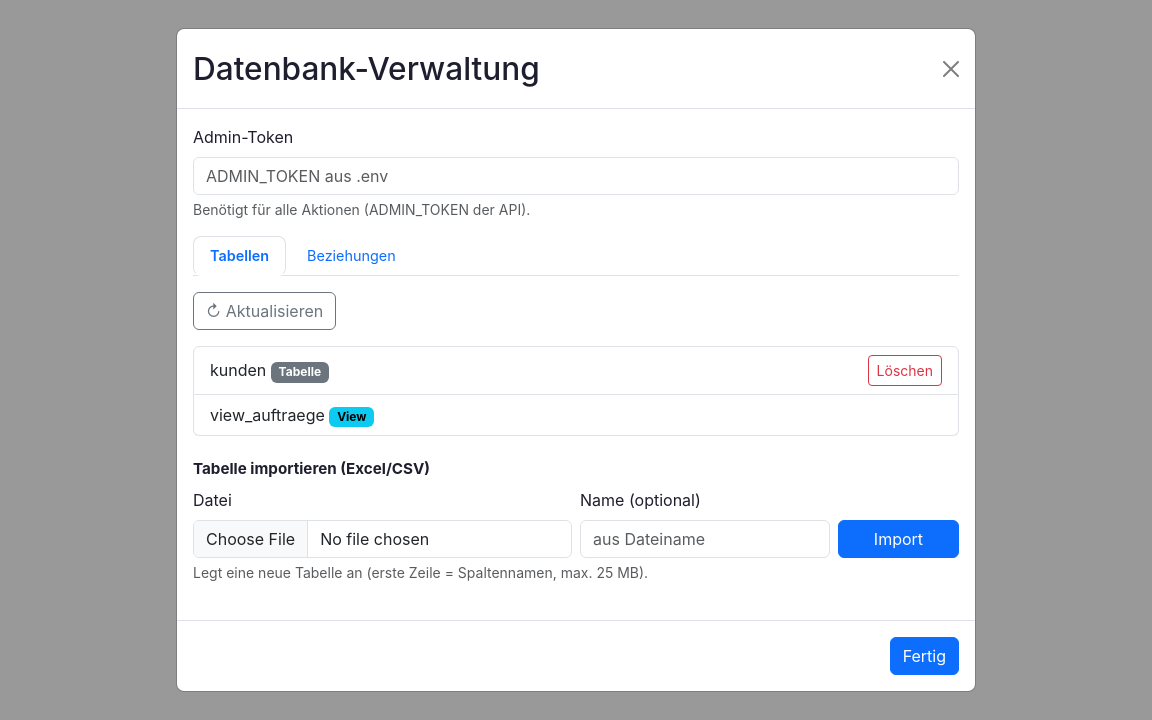
Scenario: AdminPanel – delete table › deletes when confirmed and reloads the list
Click the button with aria-label "Tabelle kunden löschen": x=905, y=370 [868,355,942,386]
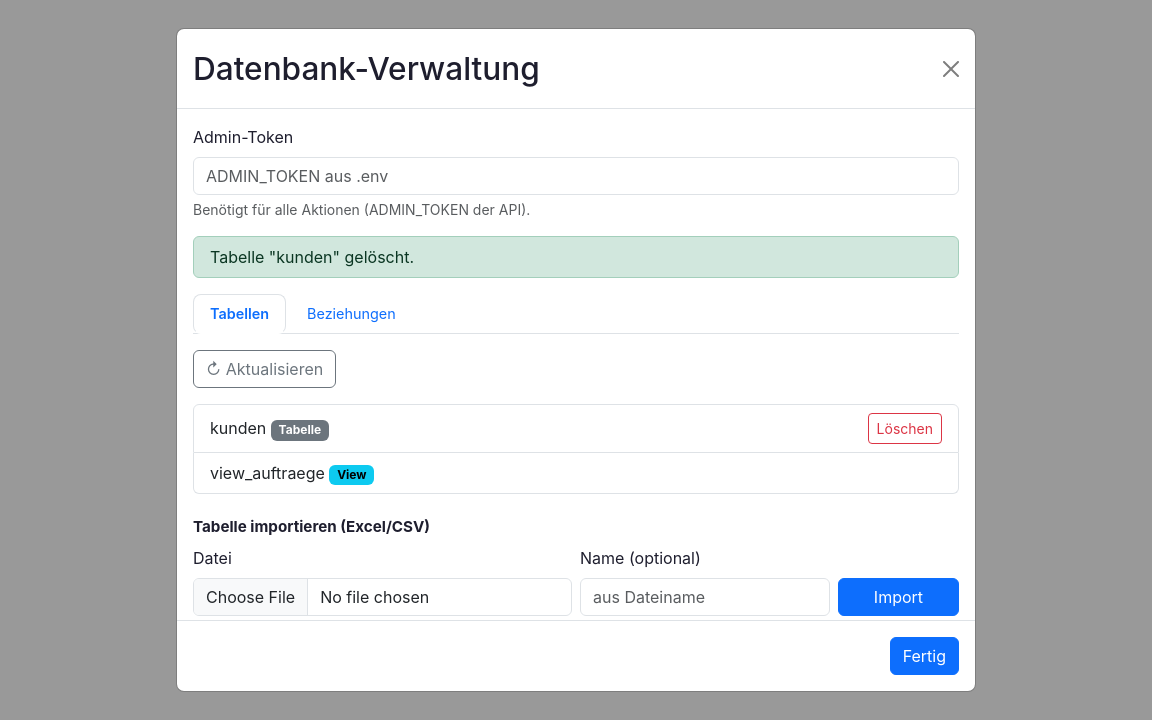
Now the text "Tabelle \"kunden\" gelöscht." is shown, box [193,236,959,278]
